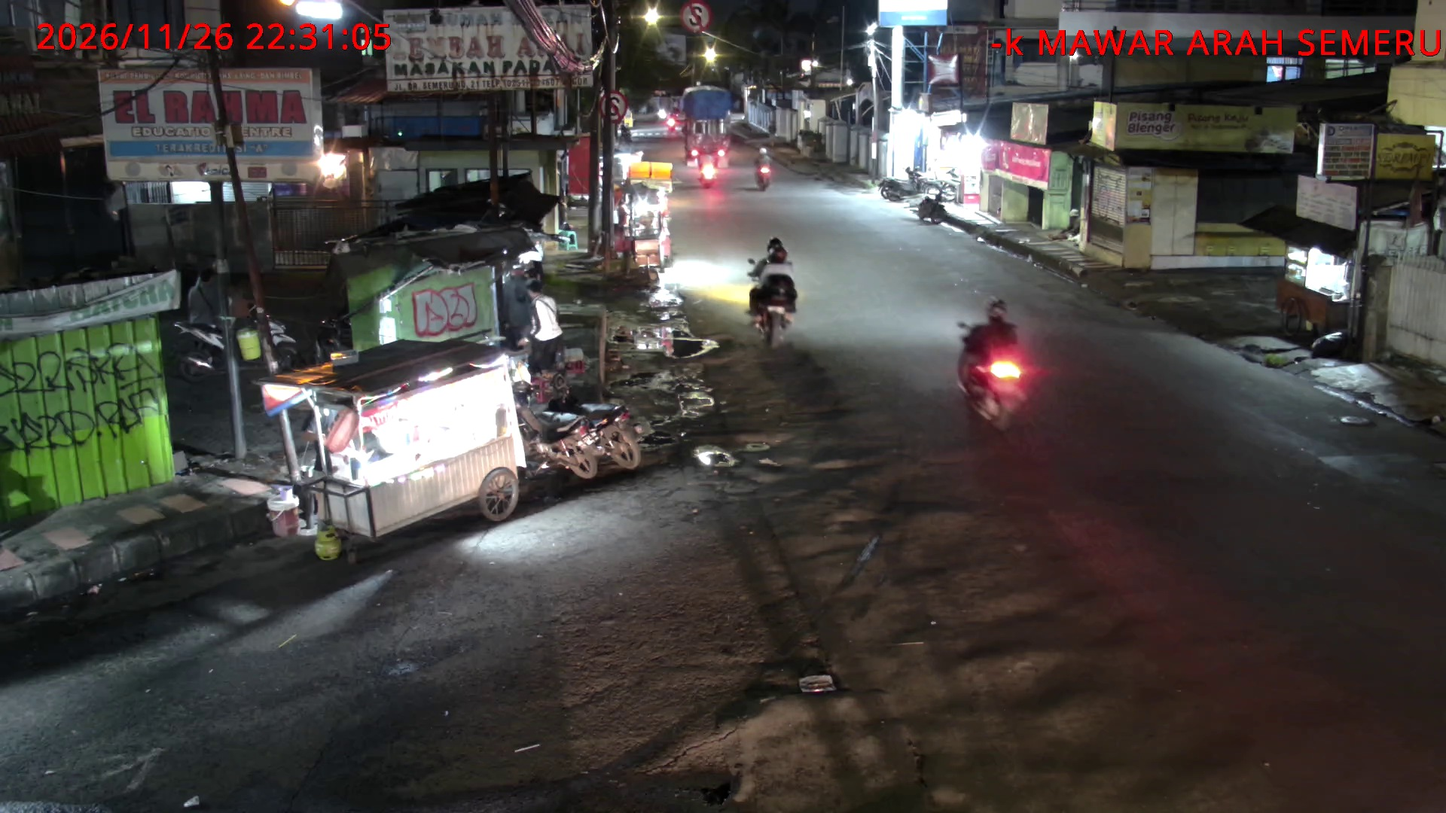Gerobak: (253, 337, 535, 555)
